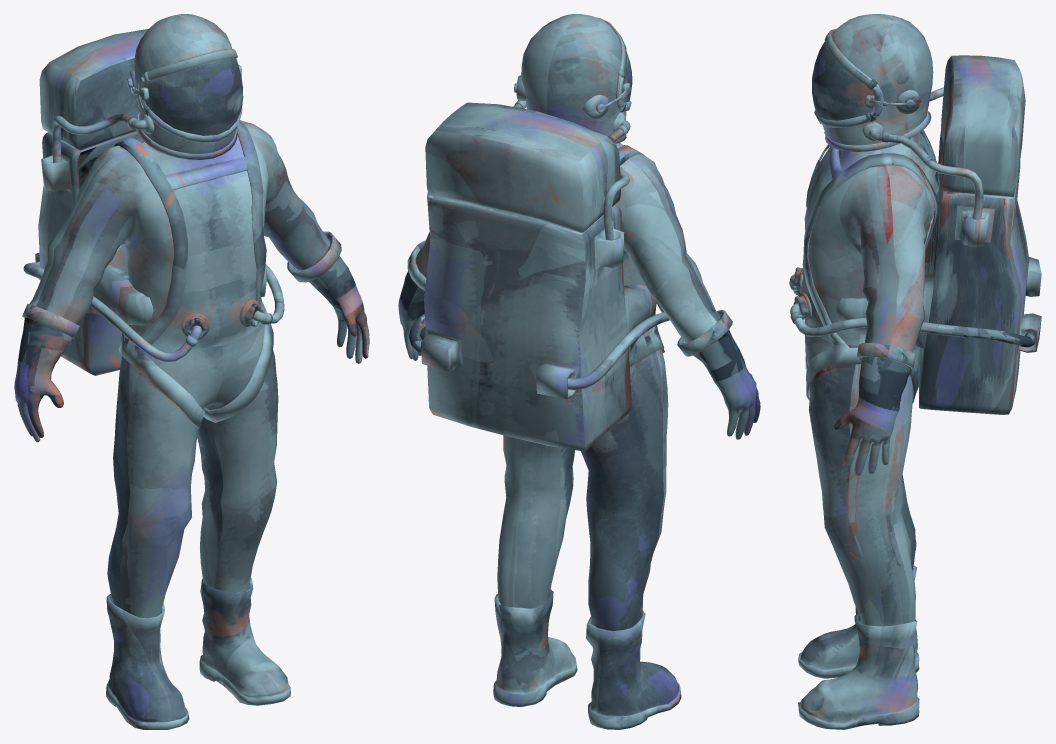
File: LO_suit.glb
3 renders of one model, left to right at view 1: azimuth 30°, elevation 25°; view 2: azimuth 150°, elevation 25°; view 3: azimuth 270°, elevation 25°, orthographic.
Visible parts, largest first — view 1: boots_air; view 2: boots_air; view 3: boots_air.
Part boxes in pixels (left/top/right/bottom): boots_air: left=14, top=14, right=369, bottom=729; boots_air: left=398, top=14, right=760, bottom=729; boots_air: left=789, top=14, right=1041, bottom=729.
Size of the model in its own units: 1.75 by 3.25 by 1.1.
Materials: 1 (1 with a texture image).
